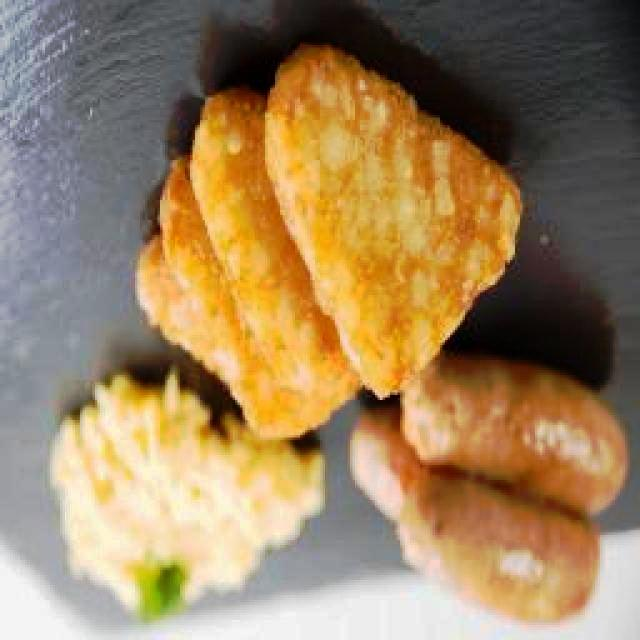Hashbrown: (268, 40, 523, 395), (161, 152, 359, 435), (192, 82, 341, 388), (134, 236, 230, 383)
